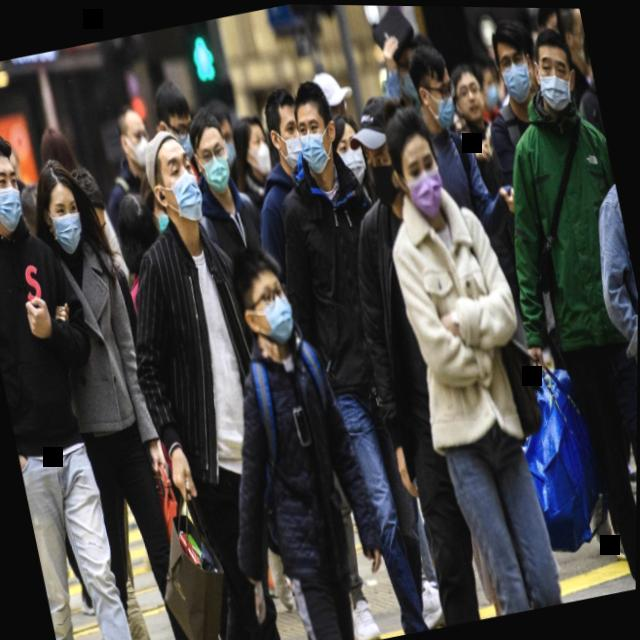Mask: (370, 86, 457, 229), (338, 78, 419, 217), (223, 242, 304, 355), (26, 149, 100, 265), (137, 129, 211, 232), (400, 33, 465, 138), (287, 74, 348, 182), (522, 16, 585, 119), (142, 66, 206, 167), (480, 12, 543, 112), (253, 80, 313, 178), (185, 112, 240, 202), (224, 101, 280, 187), (0, 121, 33, 242), (107, 98, 158, 174), (326, 109, 371, 189)
NO-Mask: (445, 56, 492, 125)
